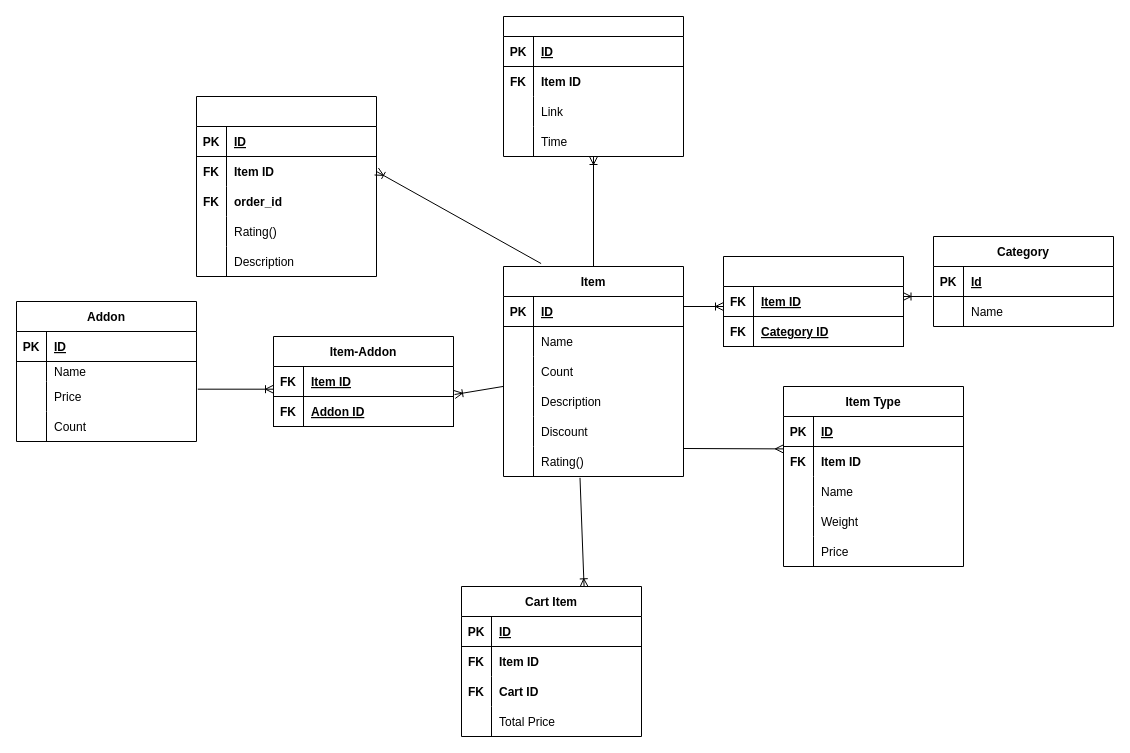
The diagram is 1130 pixels wide and 753 high, and some of its shapes have lost their labels. Each missing label, with the box of its shape:
Item Image: (502, 16, 684, 156)
Item Review: (196, 96, 376, 276)
Item-Category: (722, 256, 904, 346)
